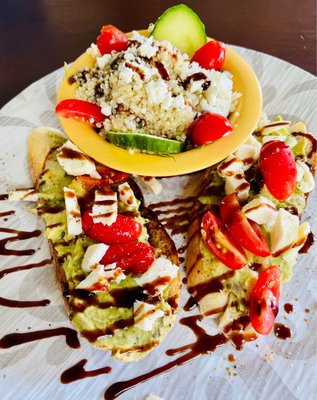sandwich: (31, 129, 184, 364)
